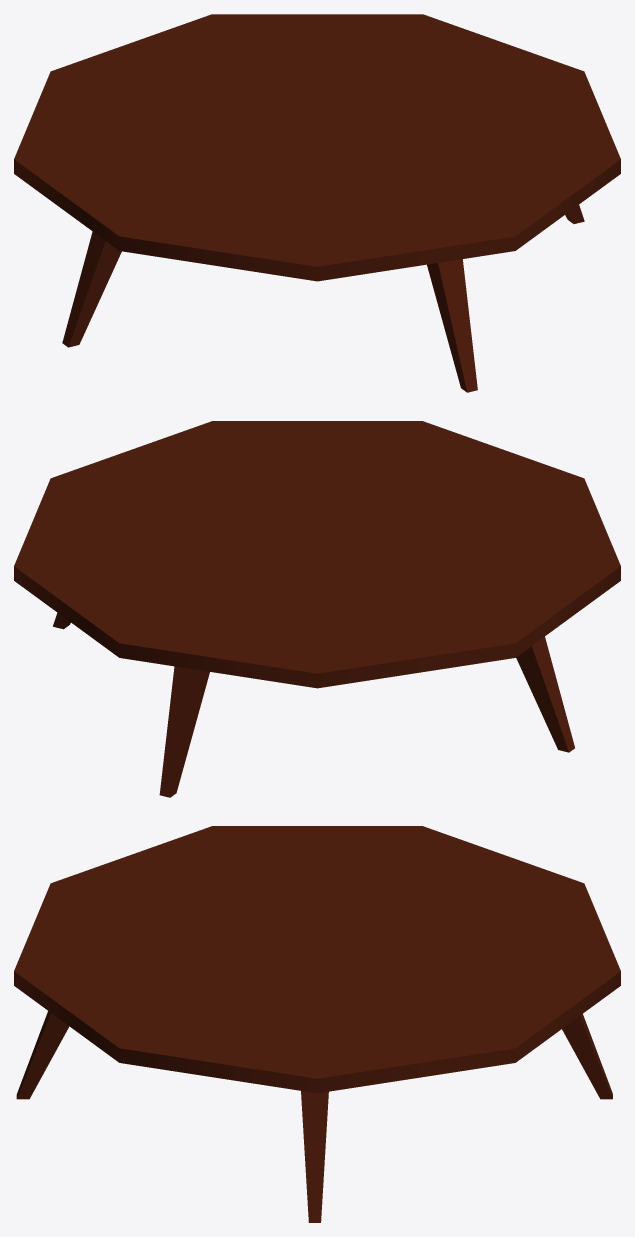
The model's file is coffee table.FBX.
3 views of the same model, one above another, from view 1: azimuth 30°, elevation 25°; view 2: azimuth 150°, elevation 25°; view 3: azimuth 270°, elevation 25° (orthographic).
Parts seen in each view (by area): view 1: Cylinder001; view 2: Cylinder001; view 3: Cylinder001.
Part boxes in pixels (bbox=[...]): Cylinder001: bbox=[14, 14, 620, 392]; Cylinder001: bbox=[14, 421, 620, 797]; Cylinder001: bbox=[14, 826, 620, 1222].
Size of the model in its own units: 76.57 by 20.53 by 77.35.
